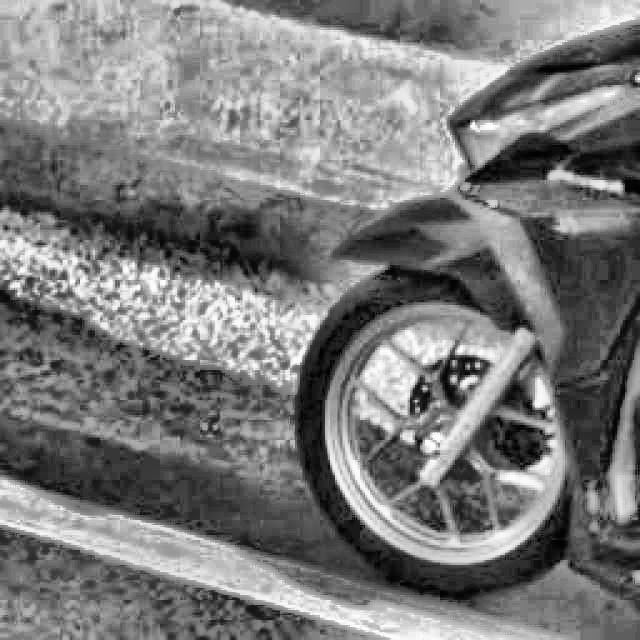motorcycle: (289, 0, 640, 639)
